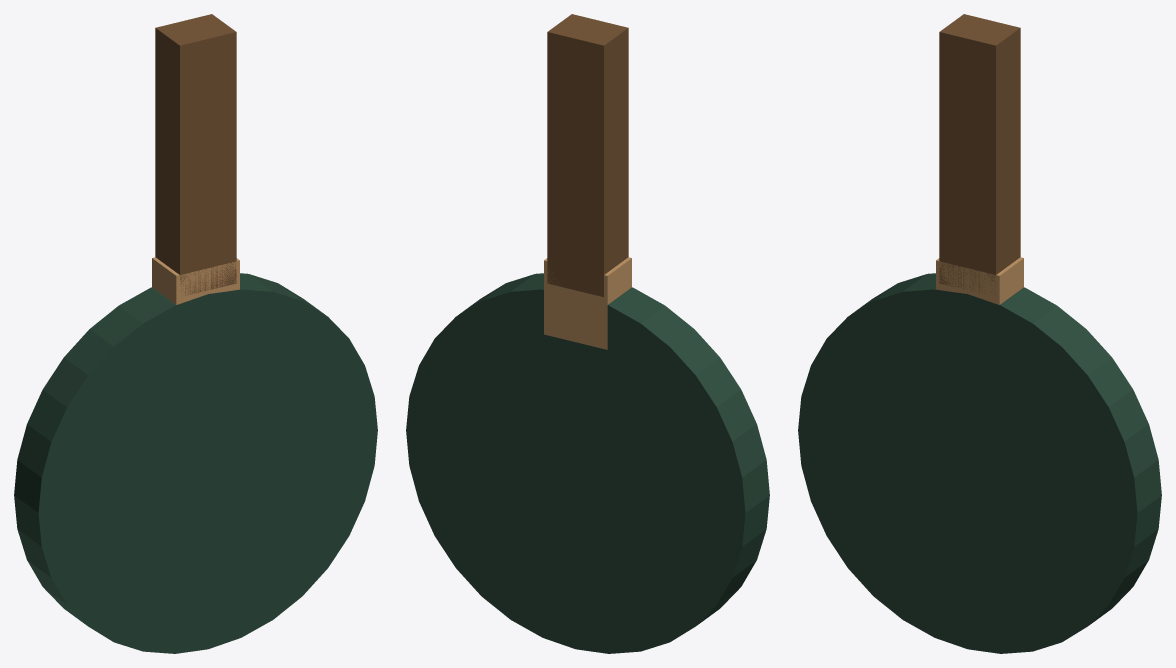
Rendered from paddle-away.glb.
The picture shows the model from 3 angles, left to right: view 1: azimuth 30°, elevation 25°; view 2: azimuth 150°, elevation 25°; view 3: azimuth 330°, elevation 25°; orthographic projection.
Parts seen in each view (by area): view 1: Paddle Face, Paddle Handle, Paddle Neck; view 2: Paddle Face, Paddle Handle, Paddle Neck; view 3: Paddle Face, Paddle Handle, Paddle Neck.
Boxes of the visible parts, x1,y1,x2,y2 form: Paddle Face: [14, 273, 377, 653]; Paddle Handle: [155, 14, 236, 296]; Paddle Neck: [152, 257, 239, 304]; Paddle Face: [406, 273, 769, 653]; Paddle Handle: [547, 14, 628, 297]; Paddle Neck: [544, 257, 631, 349]; Paddle Face: [798, 273, 1161, 653]; Paddle Handle: [939, 14, 1020, 296]; Paddle Neck: [936, 257, 1023, 304].
Size of the model in its own units: 0.96 by 1.65 by 0.12.
